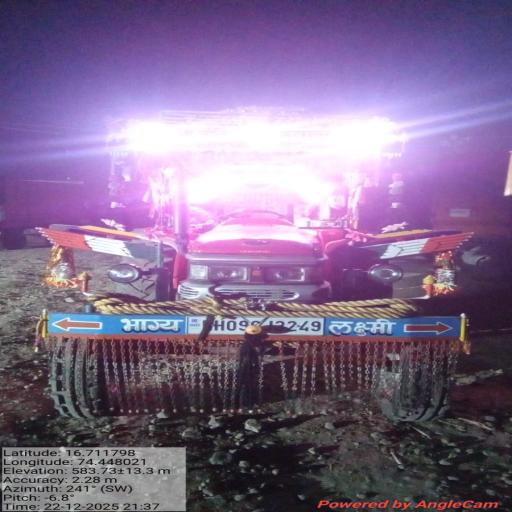number_plate: (184, 314, 332, 336)
